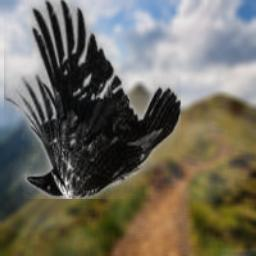Crow: (4, 0, 181, 199)
